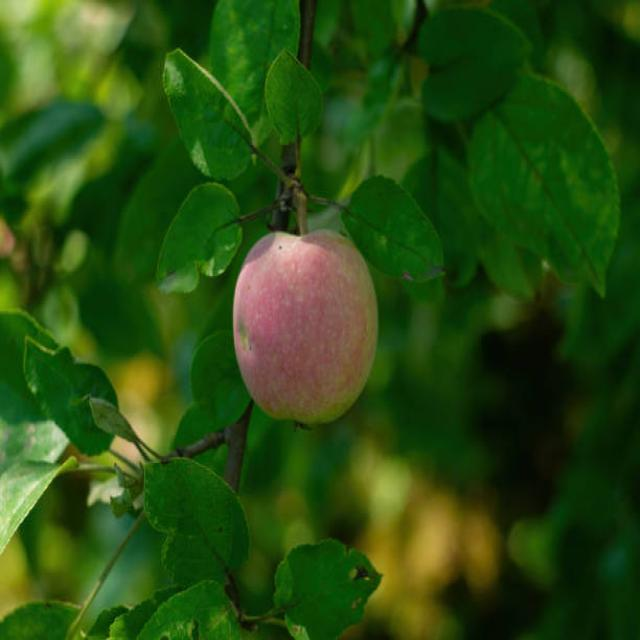Unripe: (233, 225, 380, 430)
